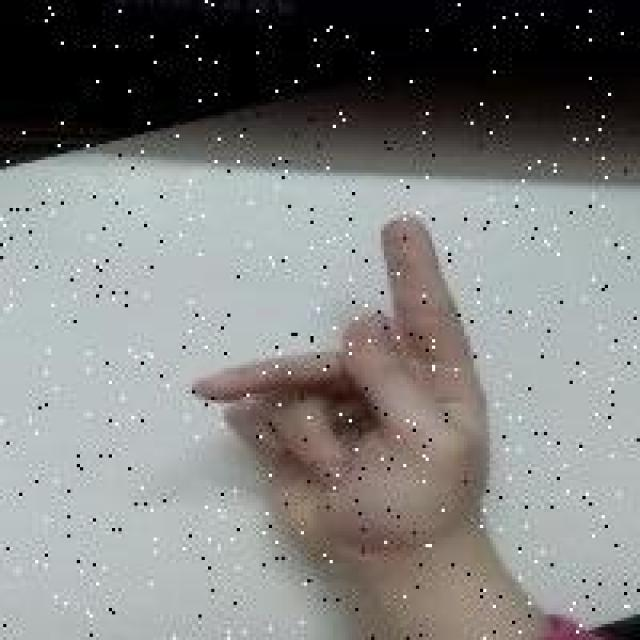K: (175, 210, 508, 548)
